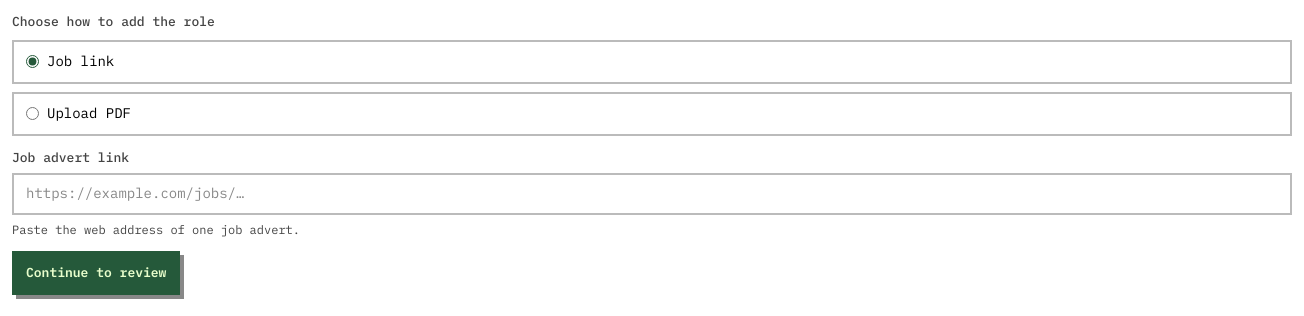
keeps a typed link when switching to PDF and back
Type "https://example.org/jobs/operations" into the field named "url".
click(652, 194); type("https://example.org/jobs/operations")  # box [12,173,1292,215]
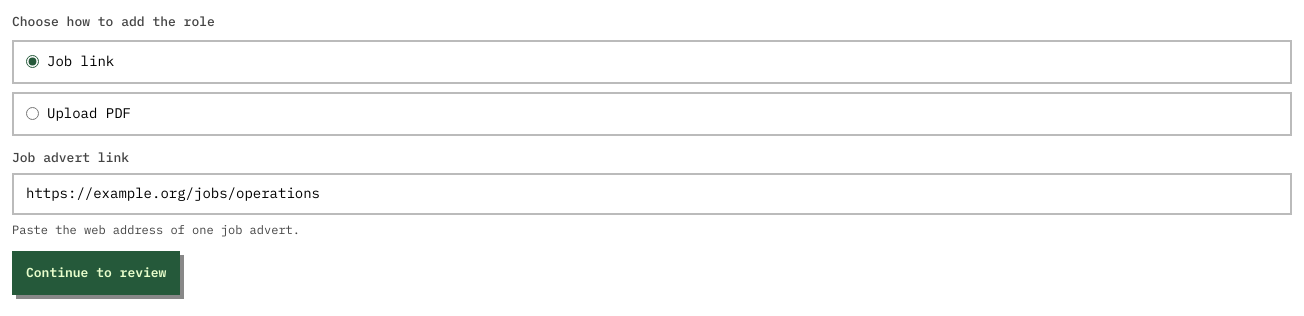
Click the radio button named "kind".
click(32, 114)  # box [26,107,39,120]
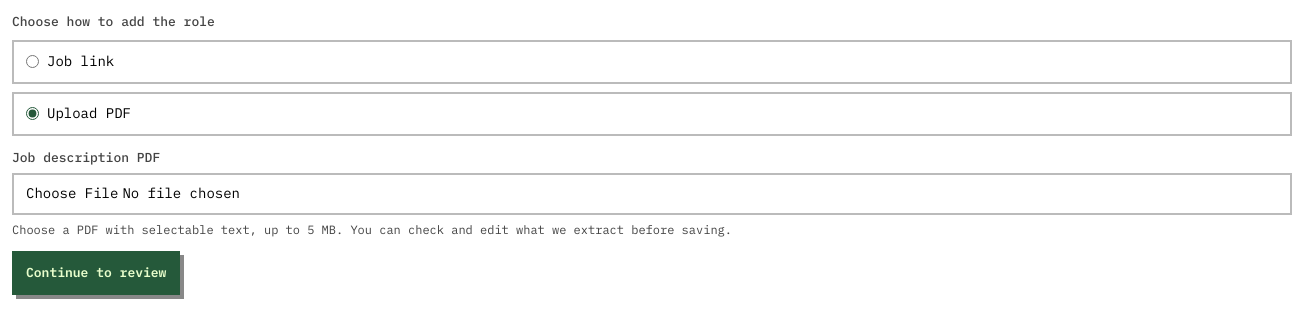
Now the file field named "file" is enabled, box [12,173,1292,215]
Click the radio button named "kind".
click(32, 62)  # box [26,55,39,68]
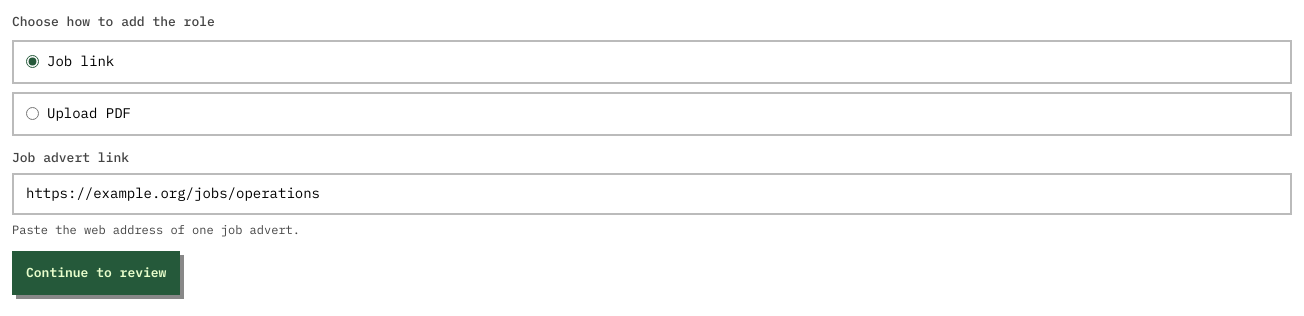
Now the field named "url" is enabled, box [12,173,1292,215]
